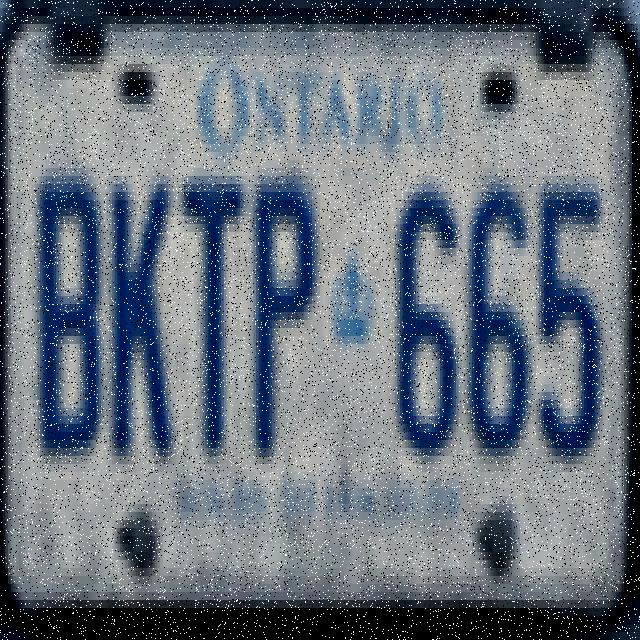licenseplate: (4, 12, 632, 610)
